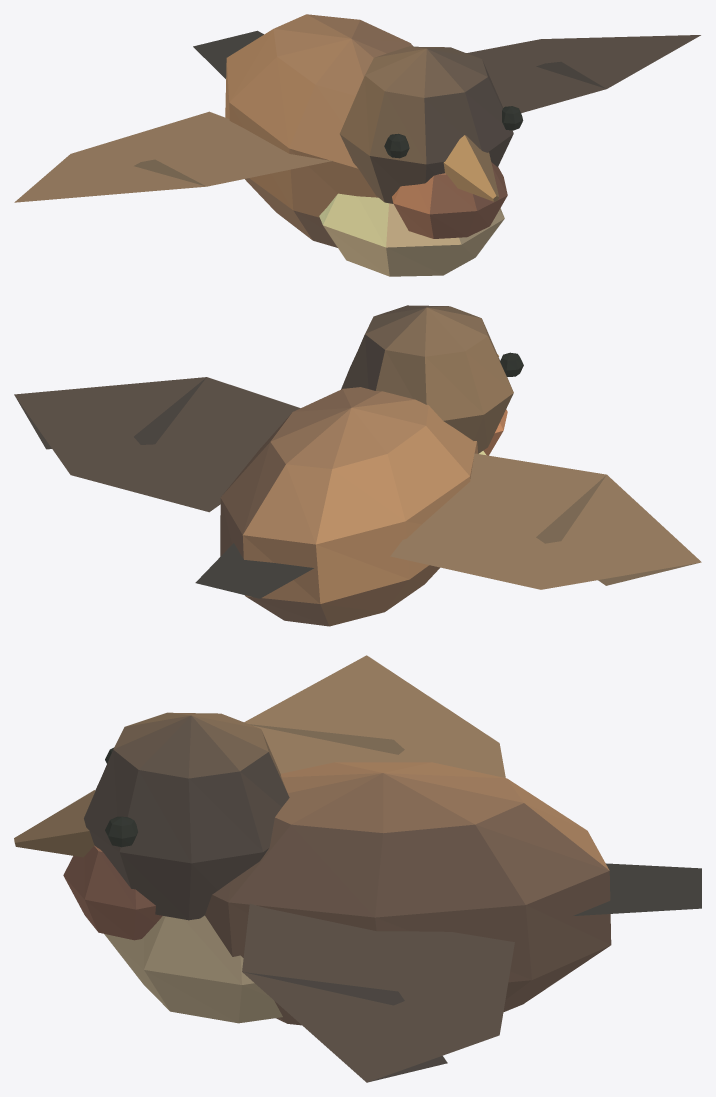
The model's file is wild_bird.glb.
The picture shows the model from 3 angles, top to bottom: view 1: azimuth 30°, elevation 25°; view 2: azimuth 150°, elevation 25°; view 3: azimuth 270°, elevation 25°; orthographic projection. The views are drawn at different scales.
Parts seen in each view (by area): view 1: wild_bird, wild_bird_wing_l, wild_bird_wing_r; view 2: wild_bird, wild_bird_wing_l, wild_bird_wing_r; view 3: wild_bird, wild_bird_wing_r, wild_bird_wing_l.
Boxes of the visible parts, left/top/right/bottom form: wild_bird: left=193, top=14, right=523, bottom=276; wild_bird_wing_l: left=14, top=111, right=332, bottom=202; wild_bird_wing_r: left=466, top=35, right=700, bottom=113; wild_bird: left=195, top=305, right=523, bottom=626; wild_bird_wing_l: left=390, top=453, right=701, bottom=589; wild_bird_wing_r: left=14, top=377, right=300, bottom=512; wild_bird: left=14, top=712, right=701, bottom=1025; wild_bird_wing_r: left=242, top=903, right=514, bottom=1082; wild_bird_wing_l: left=244, top=655, right=505, bottom=777.
Size of the model in its own units: 0.86 by 0.286 by 0.5849.
